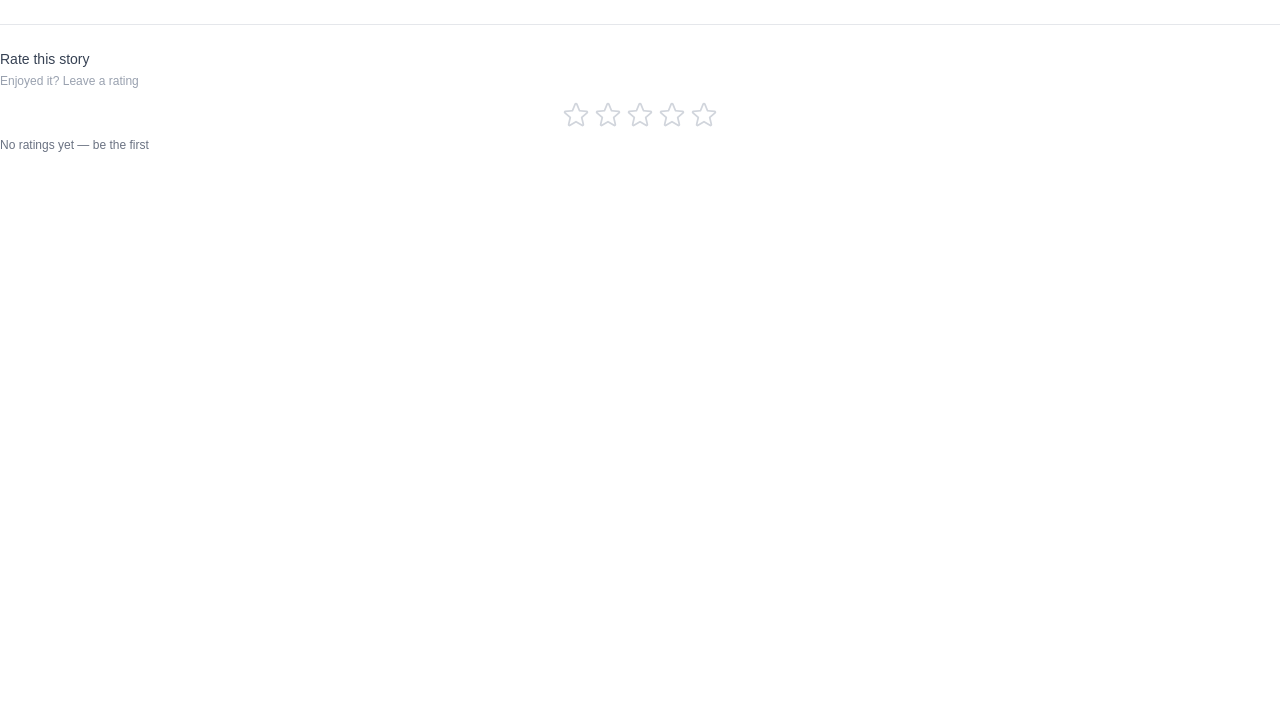
Test: RatingWidget › 匿名写评价遇 401 时存草稿并提示去登录（带跳回）
This screenshot has width=1280, height=720.
Click the radio button named "5" at (704, 115), box [690,101,718,129]
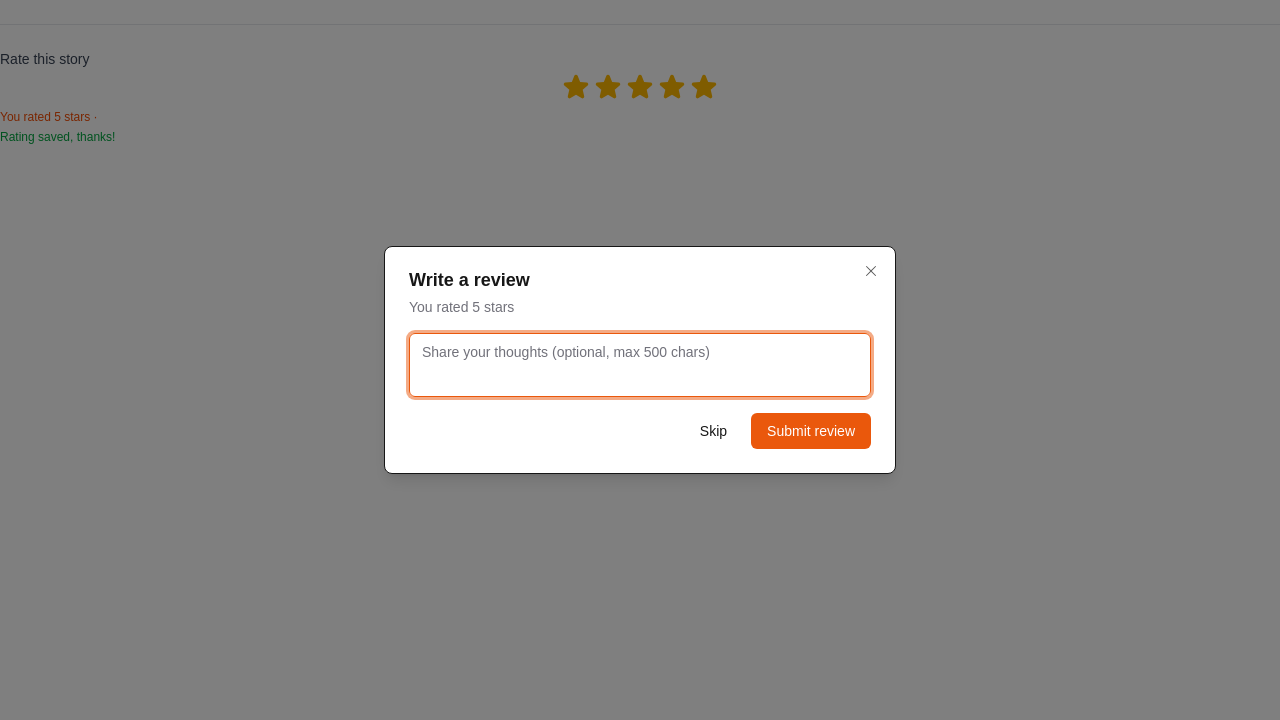
Check: the dialog is shown, box [384,246,896,474]
Type "神作，哭了" into the text box with placeholder "Share your thoughts (optional, max 500 chars)" at (640, 365), box [409,333,871,397]
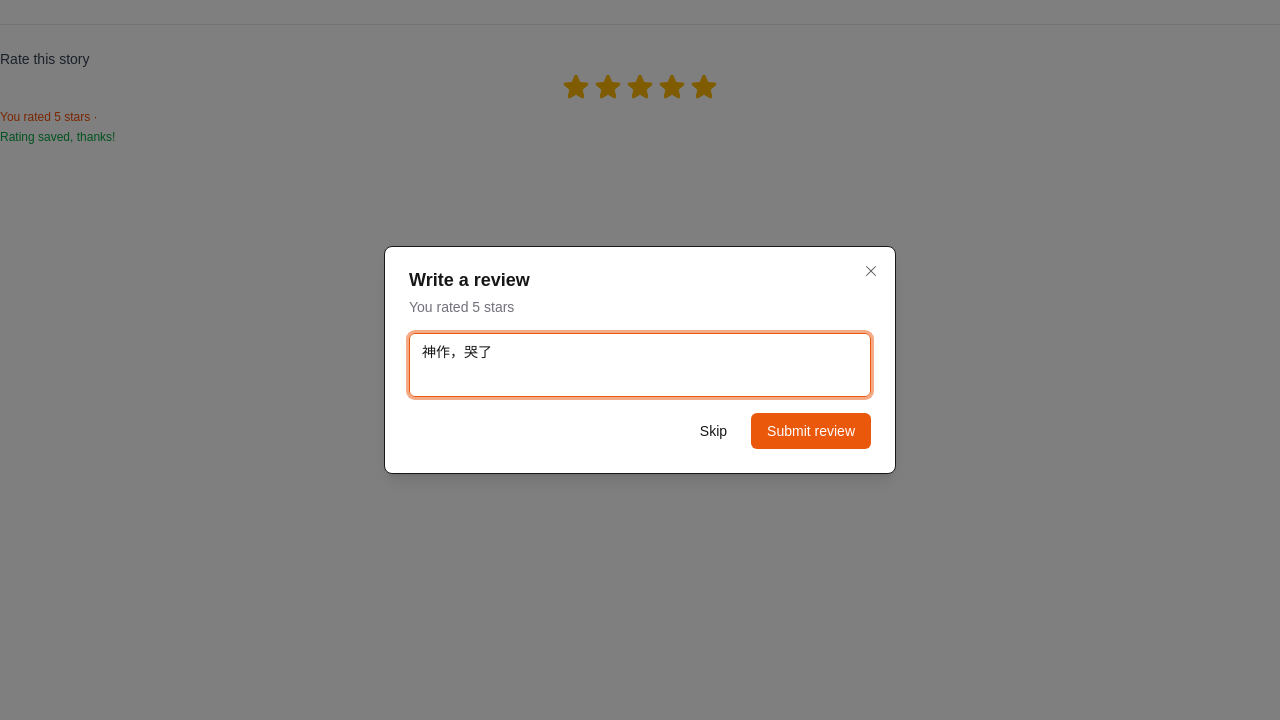
Click the button "Submit review" at (811, 431), box [751,413,871,449]
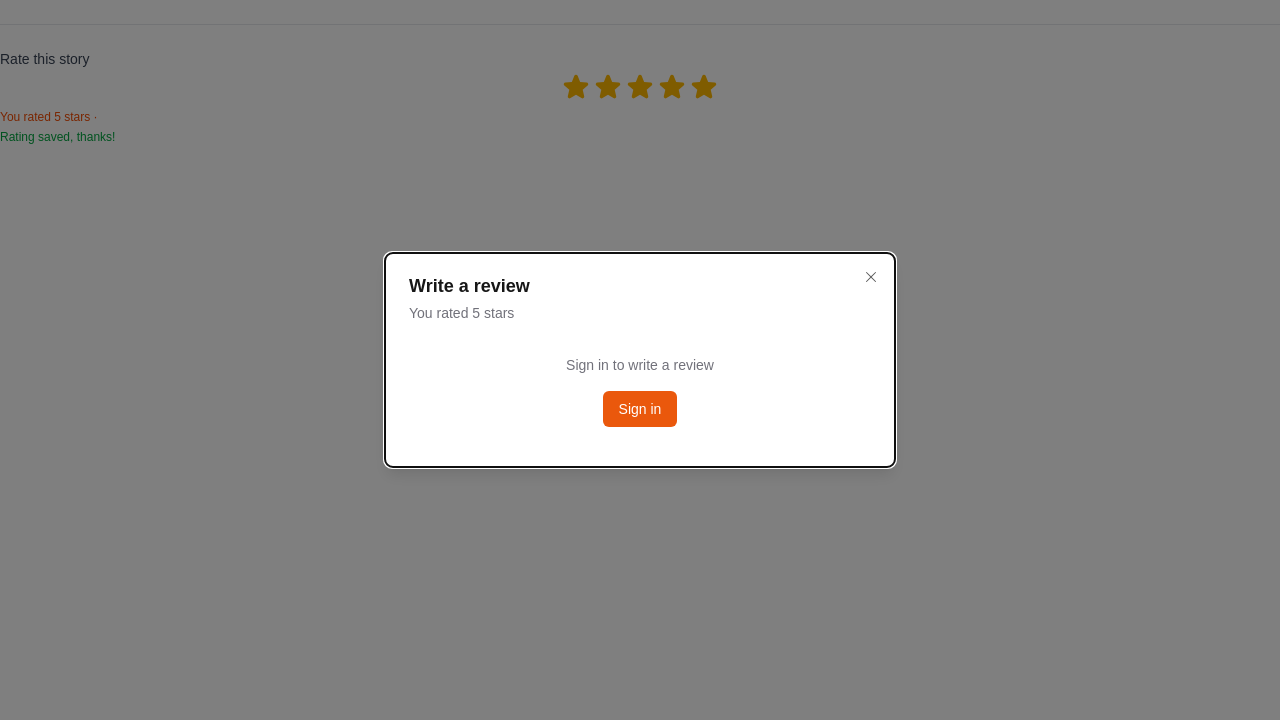
Check: the text "Sign in to write a review" is shown, box [566,357,714,373]
